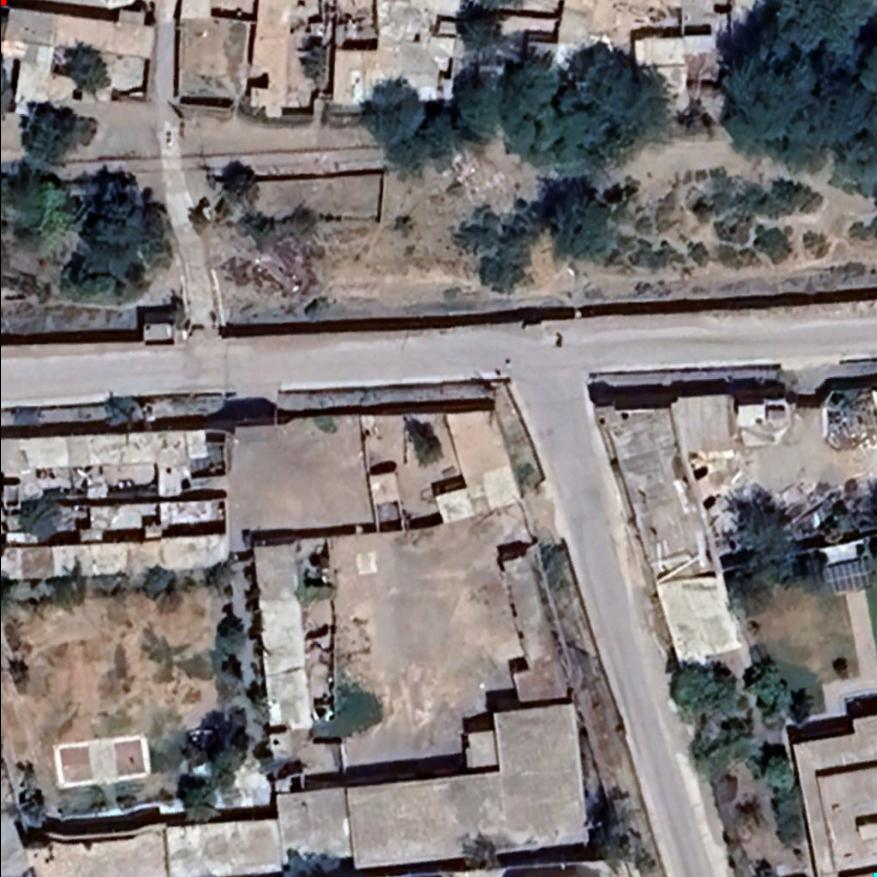Solarpanel: (818, 552, 875, 600)
